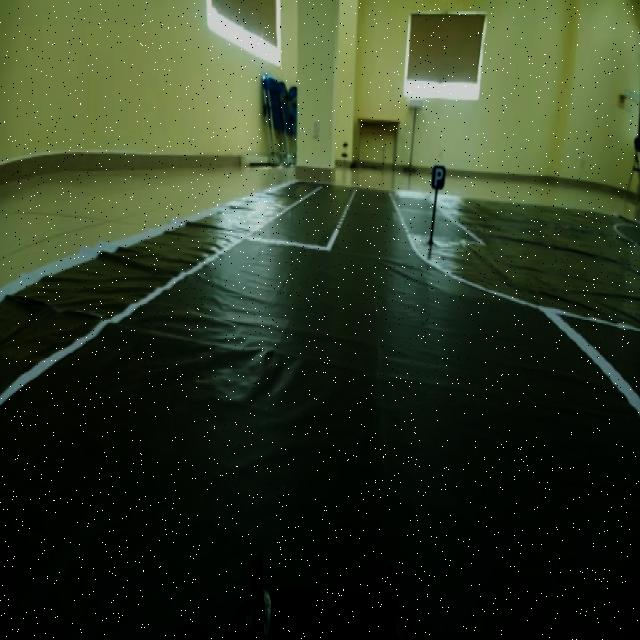parking: (427, 153, 454, 203)
